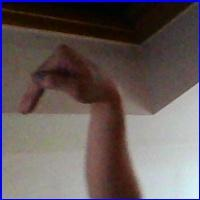del: (19, 38, 113, 133)
